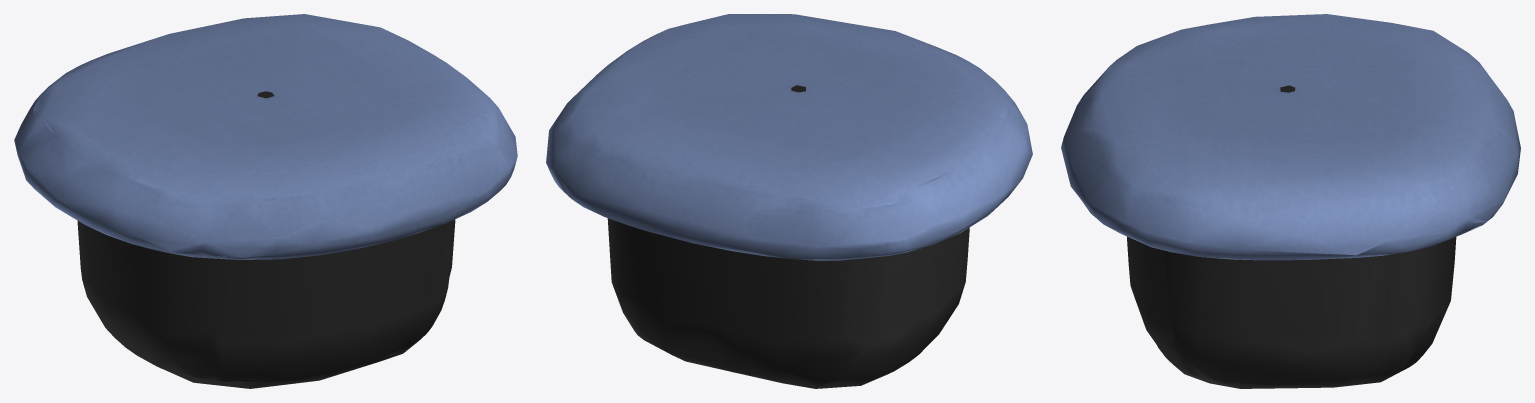
File: Stool4.obj
3 views of the same model, side by side, from view 1: azimuth 30°, elevation 25°; view 2: azimuth 150°, elevation 25°; view 3: azimuth 270°, elevation 25° (orthographic).
Parts seen in each view (by area): view 1: solid_003, solid_002; view 2: solid_003, solid_002; view 3: solid_003, solid_002.
Boxes of the visible parts, box(x1,y1,x2,y2) form: solid_003: box(14, 14, 517, 259); solid_002: box(77, 219, 455, 388); solid_003: box(546, 14, 1032, 260); solid_002: box(607, 218, 969, 388); solid_003: box(1061, 14, 1520, 260); solid_002: box(1127, 236, 1456, 388).
Size of the model in its own units: 1.88 by 1.06 by 1.79.
1 material, 1 textured.
